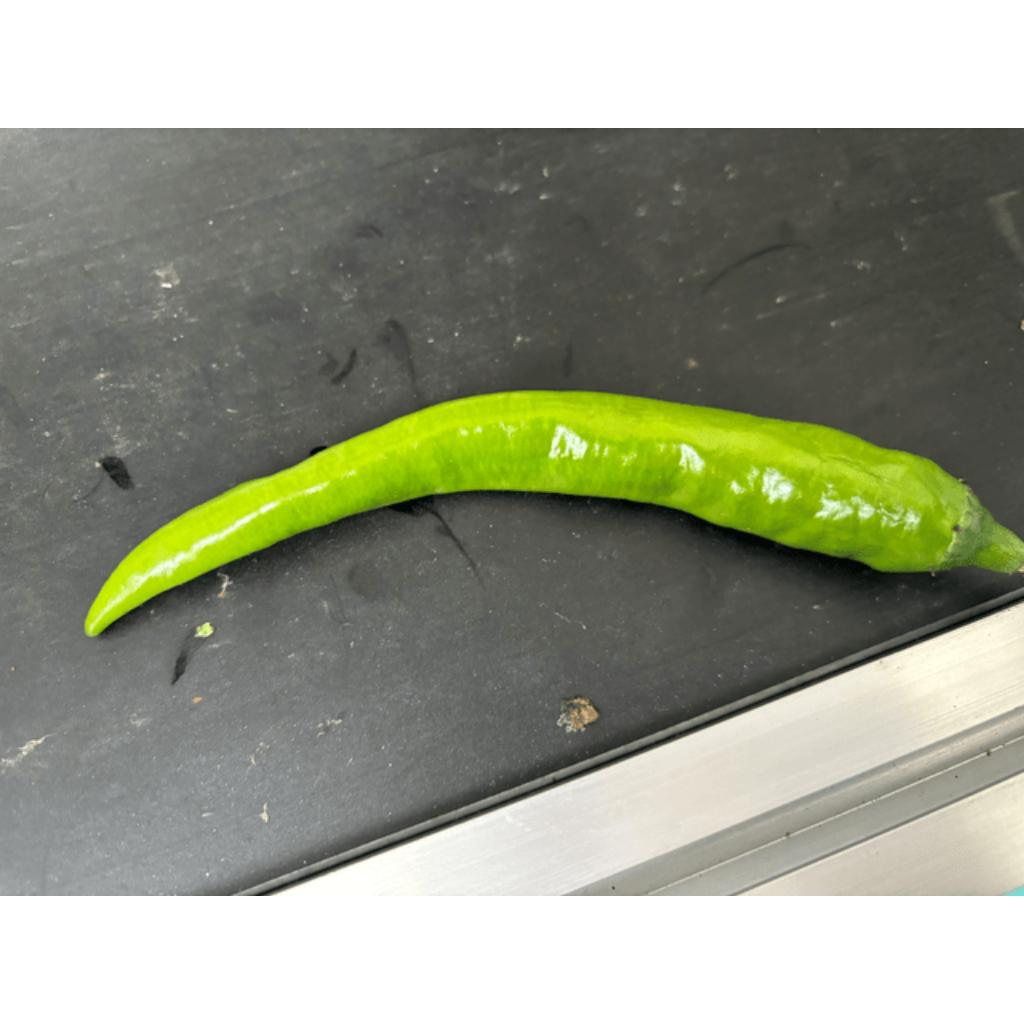chili: (79, 391, 997, 641)
